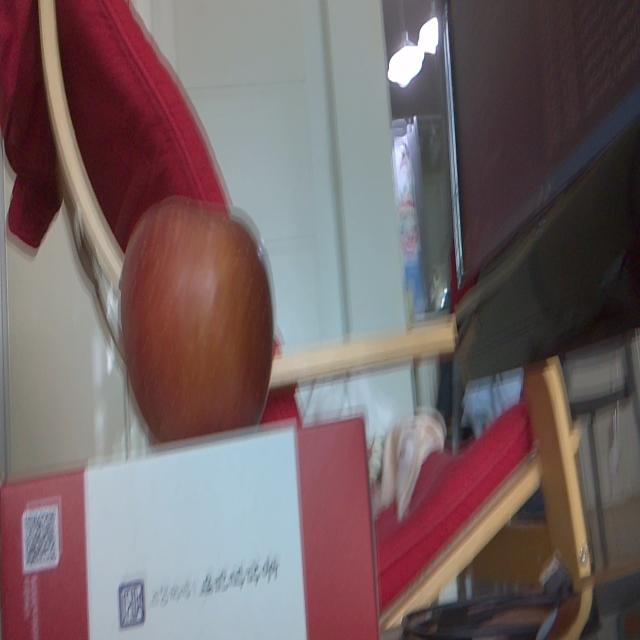apple: (120, 198, 270, 424)
